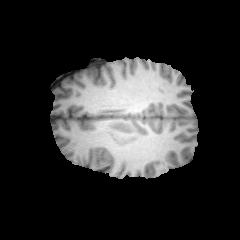glioma: (106, 122, 145, 146)
